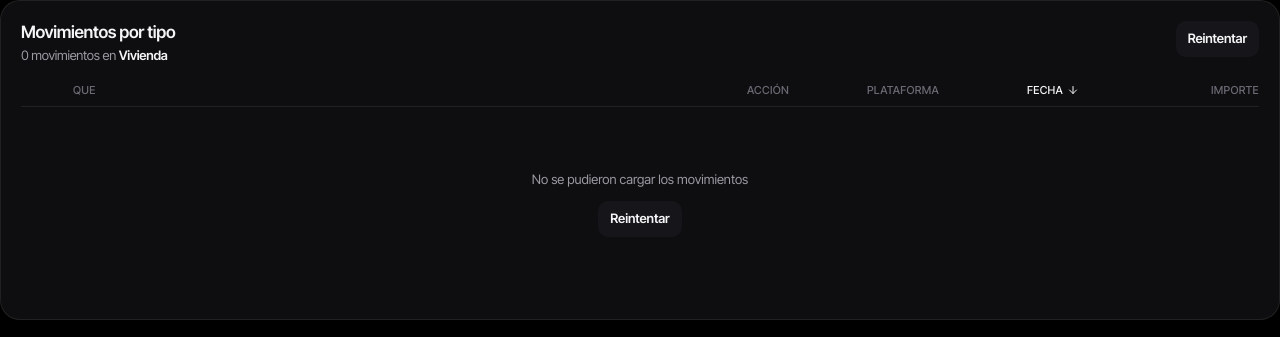
Test: TipoEntriesTable › shows an error state with a working retry
Check: the text "No se pudieron cargar los movimientos" is shown, box [532,170,748,189]
What coordinates should you click on to do the following:
click the button "Reintentar" in the row of "Movimientos por tipo"
I would click on:
 (1217, 39)
Its box is [1176,21,1259,57].
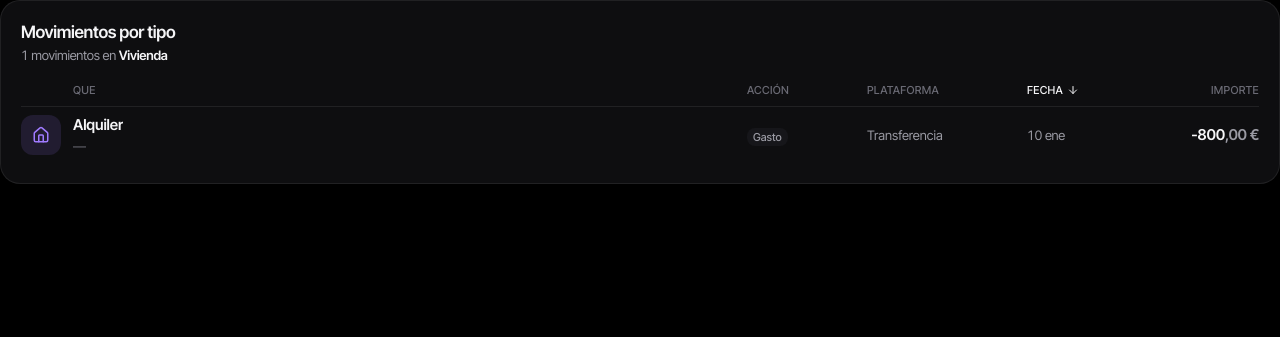
Check: the text "Alquiler" is shown, box [73,114,123,137]
